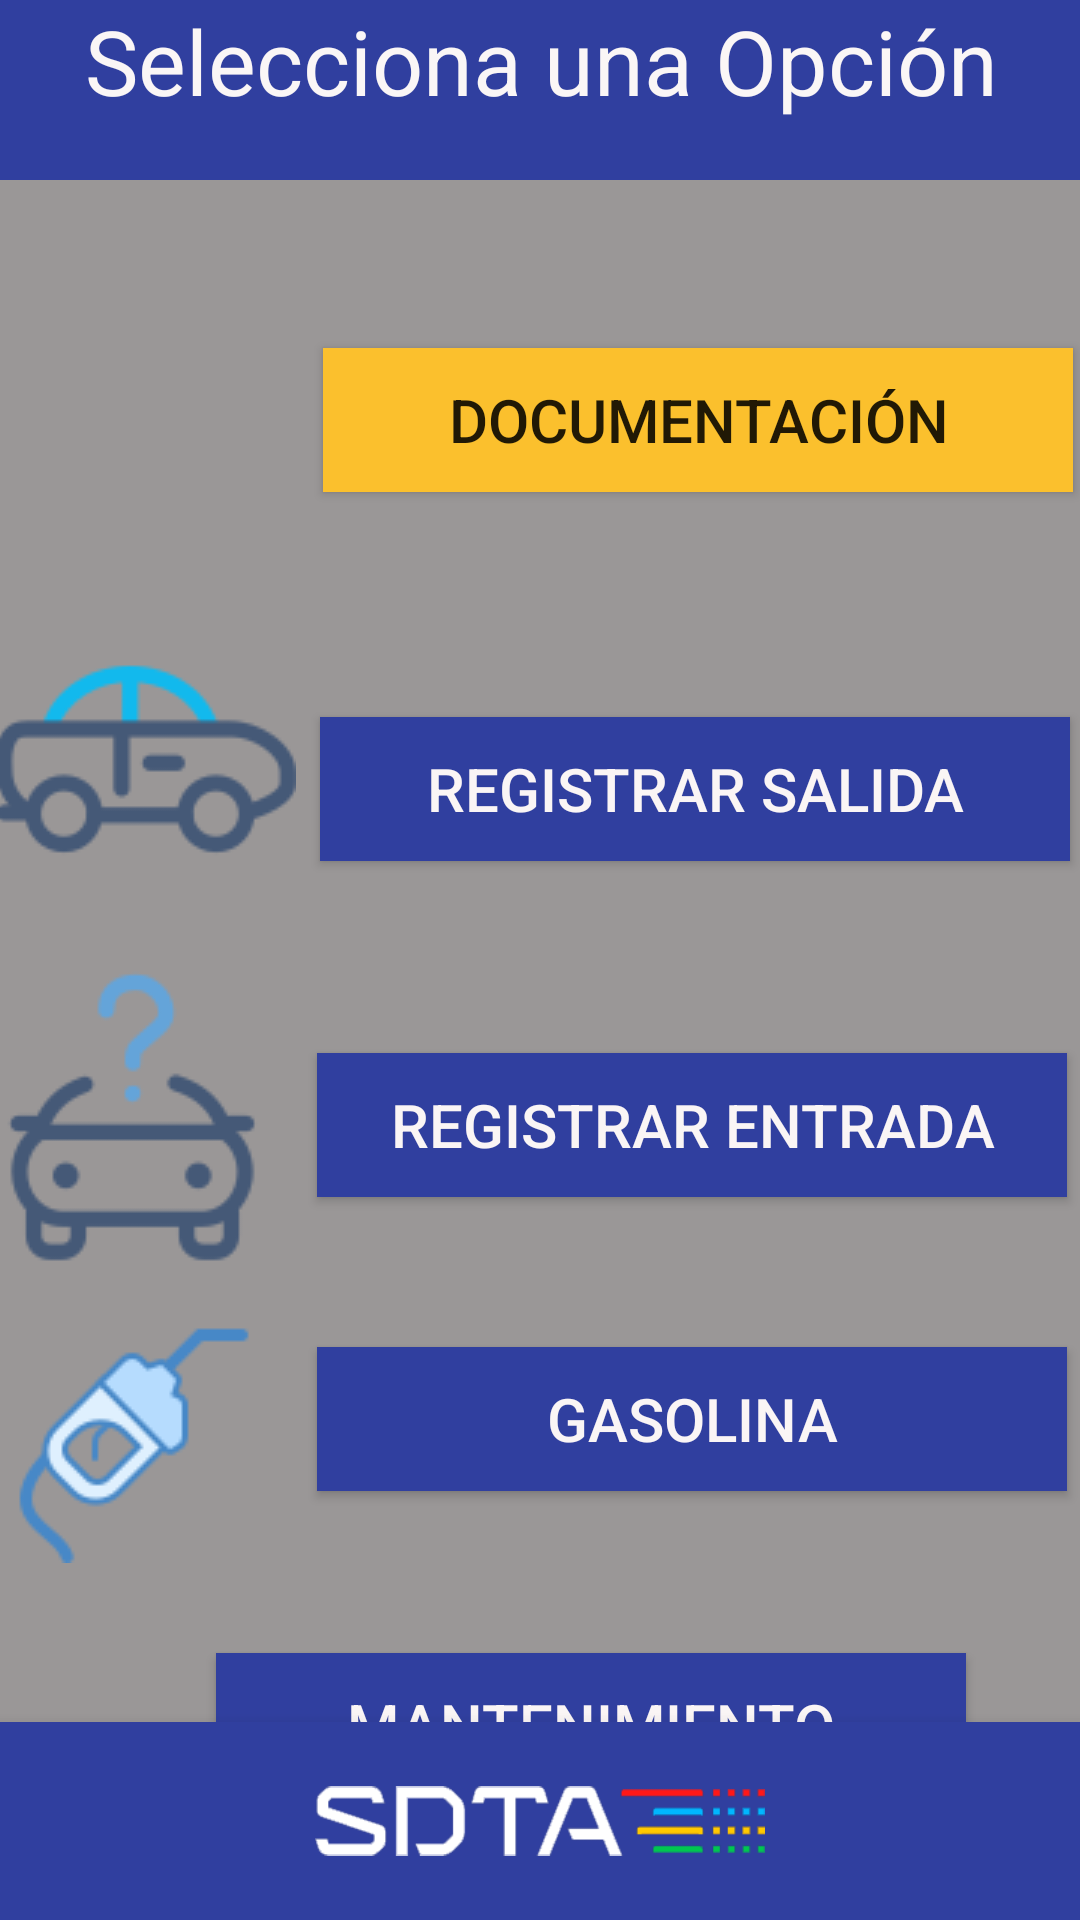

Named icons in this screenshot (1080 x 1920) and their centers, (x,y):
carenter: (132,1117)
carexit: (148,759)
